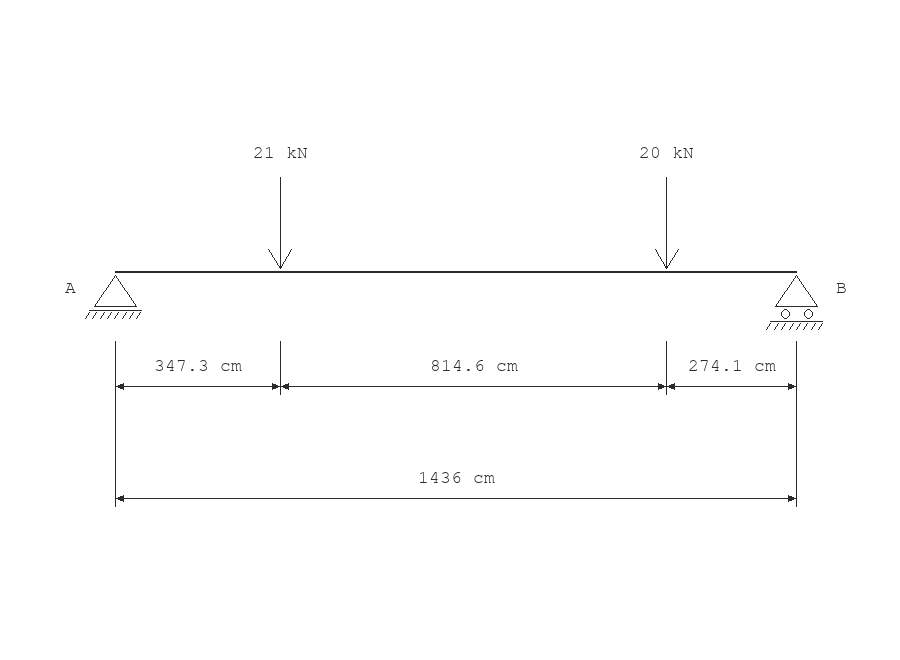pin_support: (85, 275, 142, 319)
point_load: (268, 177, 292, 269), (655, 177, 679, 269)
roller_support: (766, 275, 823, 330)
